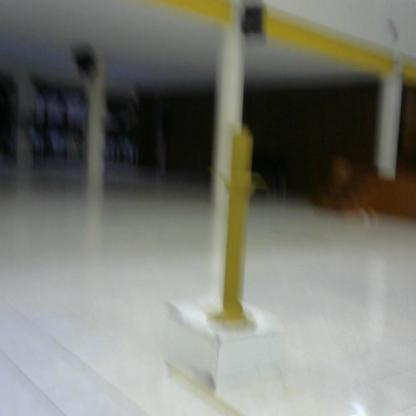pole: (200, 122, 273, 338)
